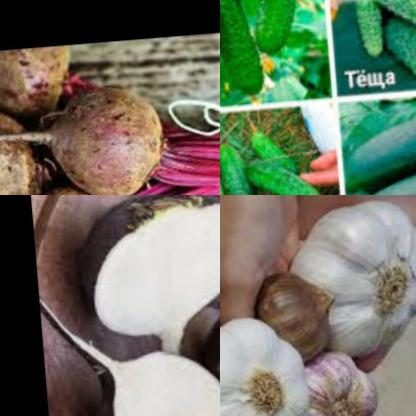beet: (40, 85, 167, 195), (0, 46, 75, 124), (0, 104, 47, 195)
cucumber: (346, 98, 416, 195), (220, 133, 309, 195), (220, 0, 267, 108), (248, 0, 309, 70), (373, 13, 416, 106), (336, 0, 387, 76), (382, 0, 416, 42)
garlic: (285, 200, 416, 377), (247, 265, 341, 371), (220, 309, 311, 416), (278, 337, 380, 416)
redka: (67, 195, 220, 349), (74, 352, 220, 416), (165, 195, 220, 318)
